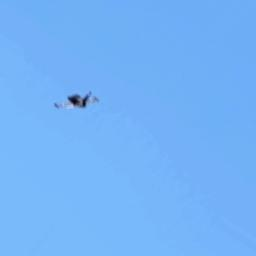Airplane: (53, 90, 99, 111)
